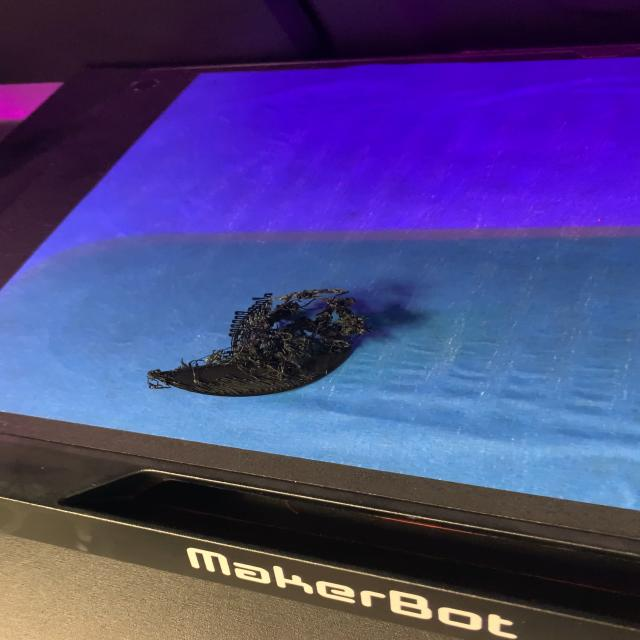spaghetti: (146, 287, 372, 397)
